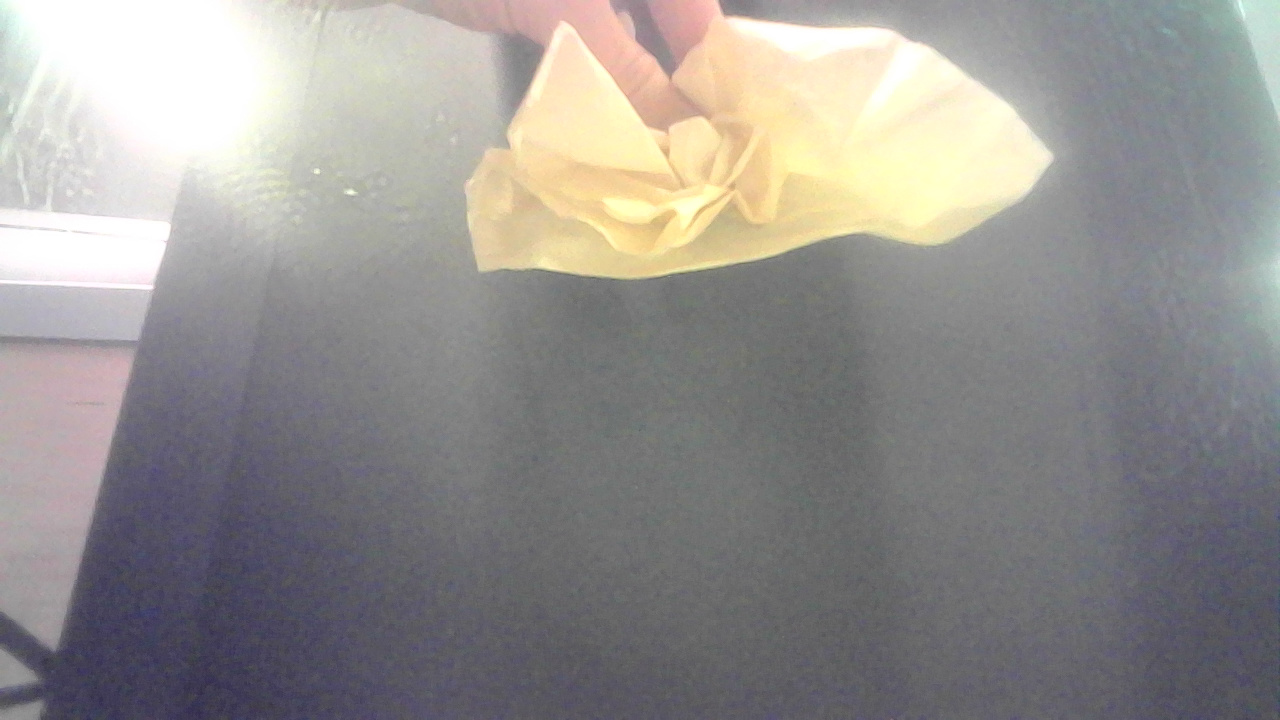Paper_Recycling: (435, 4, 1057, 299)
